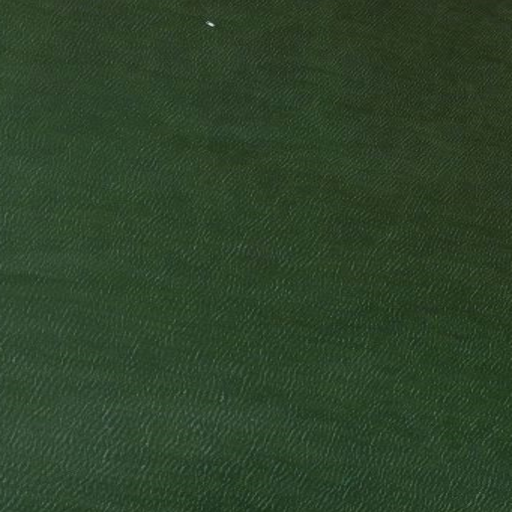ship: (203, 17, 218, 30)
